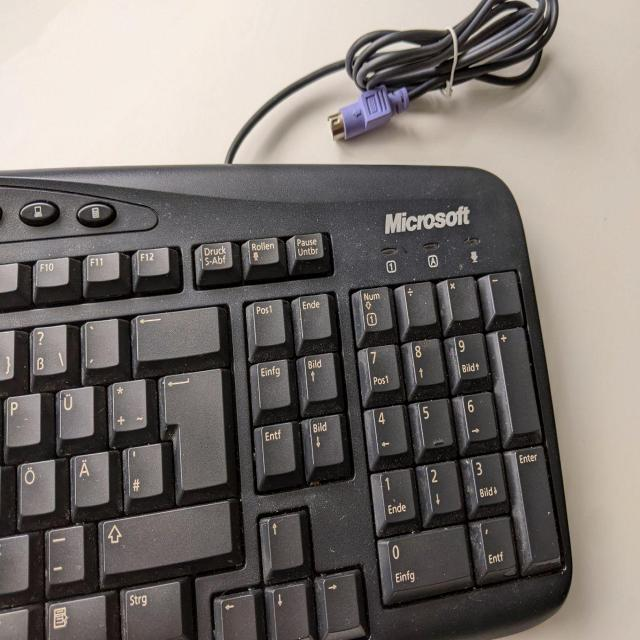accent: (81, 315, 119, 369)
ae: (69, 448, 110, 508)
del: (131, 303, 221, 362)
enter: (156, 366, 230, 494)
hash: (123, 440, 163, 500)
keyboard: (0, 160, 581, 640)
minus: (44, 521, 86, 586)
oe: (16, 455, 56, 517)
p: (2, 390, 41, 448)
plus: (108, 375, 148, 433)
shift-right: (97, 499, 235, 573)
ss: (28, 321, 68, 377)
strg-right: (118, 580, 184, 640)
ue: (54, 383, 94, 441)
